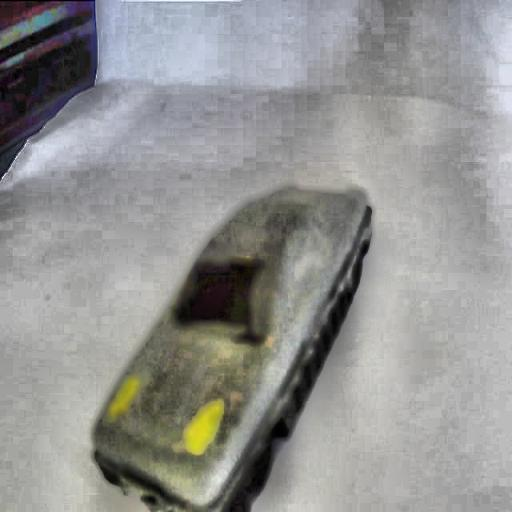normal_car: (86, 179, 374, 512)
